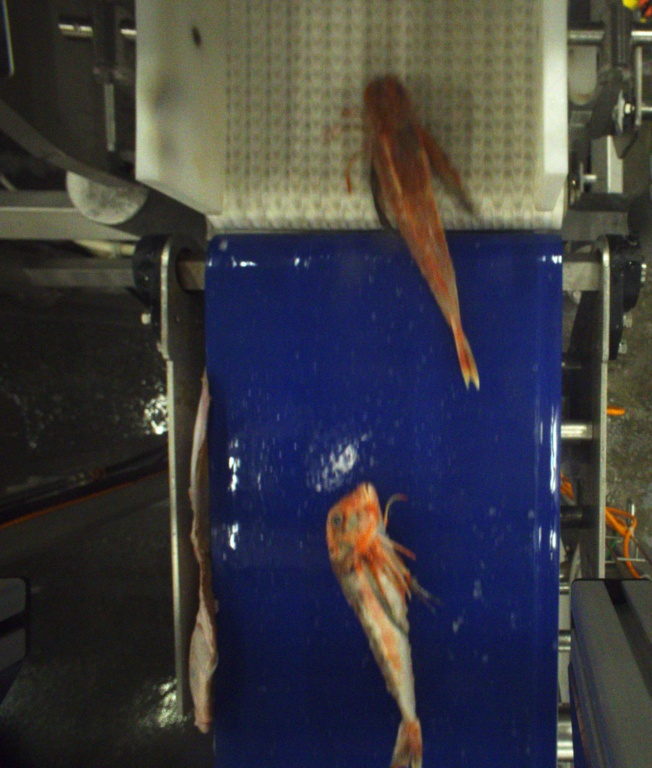GUU: (363, 75, 484, 391)
